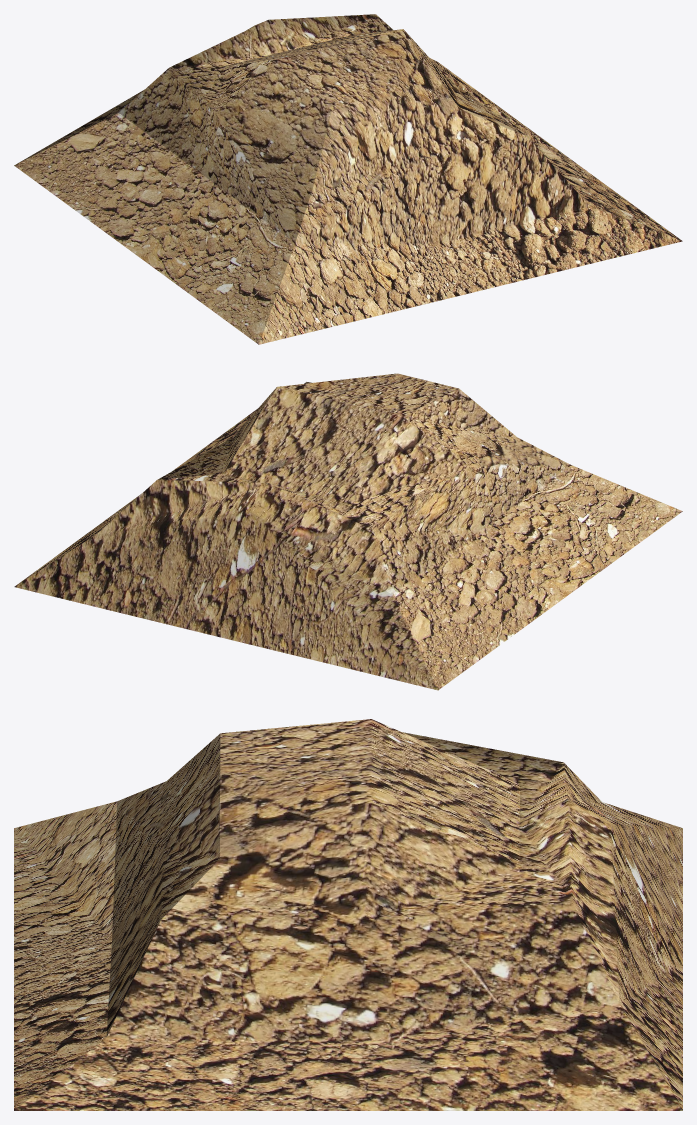
File: schutthaufen_01.fbx
3 views of the same model, one above another, from view 1: azimuth 30°, elevation 25°; view 2: azimuth 150°, elevation 25°; view 3: azimuth 270°, elevation 25° (orthographic). The views are drawn at different scales.
Parts seen in each view (by area): view 1: pPlane1; view 2: pPlane1; view 3: pPlane1.
Part boxes in pixels (<box>): pPlane1: <box>14,14,682,344</box>; pPlane1: <box>14,373,682,690</box>; pPlane1: <box>14,719,682,1110</box>.
Bounding box in the file's own units: 6.64 × 2.29 × 6.64.
1 material, 1 textured.
